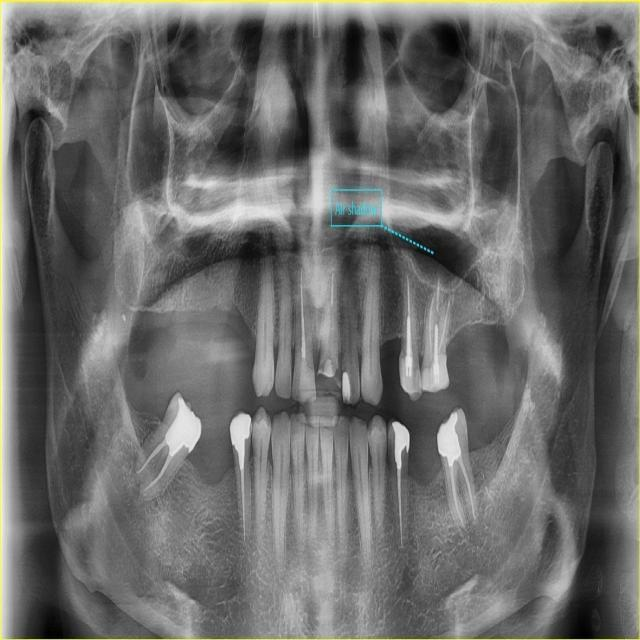71: (403, 314, 414, 376), (431, 321, 440, 386)
74: (455, 454, 480, 522), (144, 454, 174, 495), (135, 438, 169, 474), (447, 466, 465, 530), (437, 297, 453, 355), (427, 292, 436, 363), (300, 268, 306, 359), (397, 467, 402, 546), (240, 467, 245, 542), (436, 277, 441, 313), (407, 273, 411, 317), (331, 272, 334, 305)
NucleOSS Implant: (159, 395, 213, 465), (434, 411, 463, 469), (225, 410, 252, 470), (392, 420, 413, 470)
Straumann Implant: (397, 348, 423, 402), (420, 354, 450, 393), (299, 357, 317, 403), (342, 371, 351, 404), (322, 357, 335, 378)
